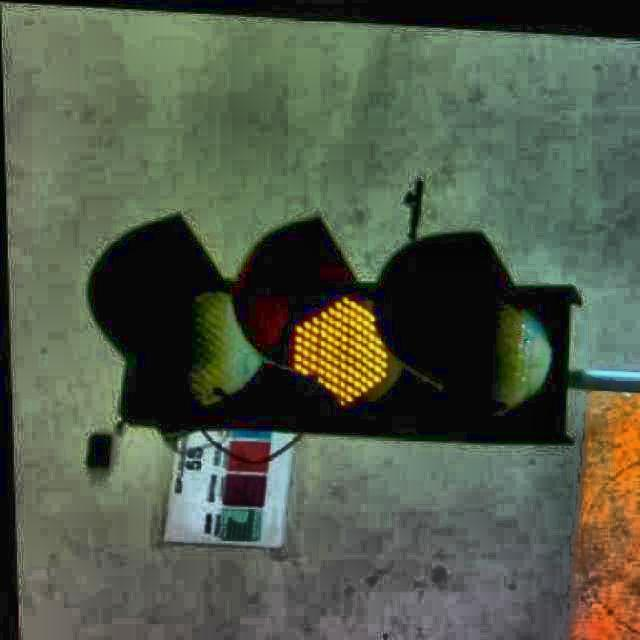yellow: (105, 239, 570, 432)
